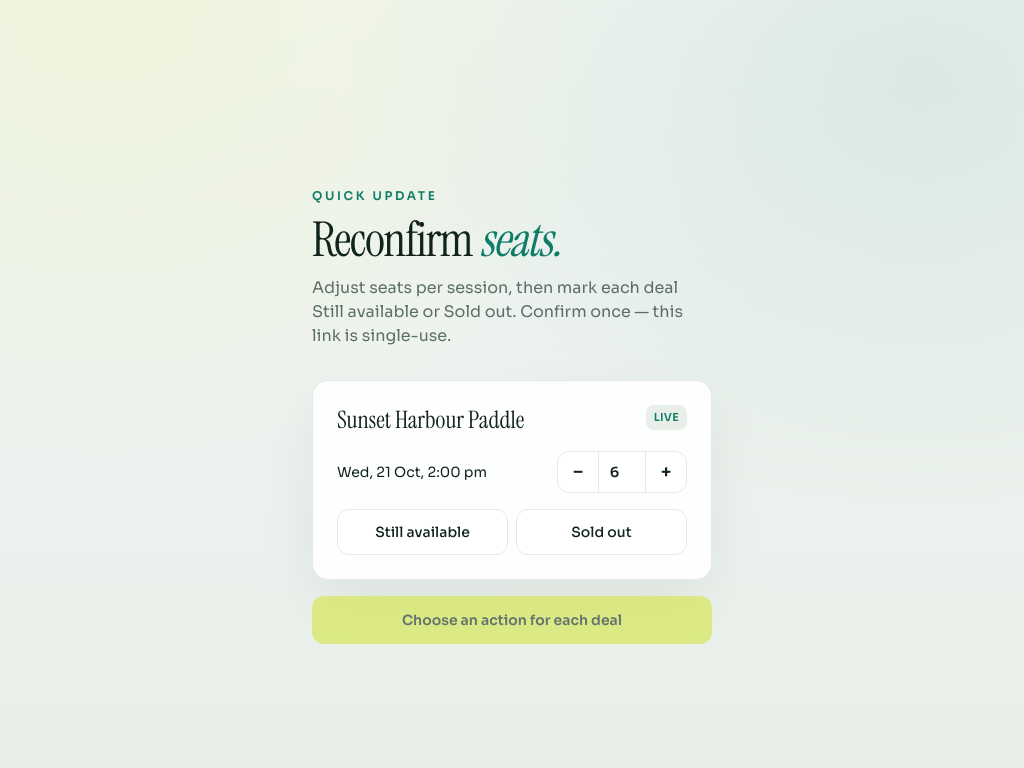
Test case: QuickUpdatePage (chunk 24) › increments seats via stepper then submits still_available
Expected: the heading "Sunset Harbour Paddle" is shown, [337,405,524,435]
Click the button named "Increase seats for" at (666, 472), box [646,452,686,492]
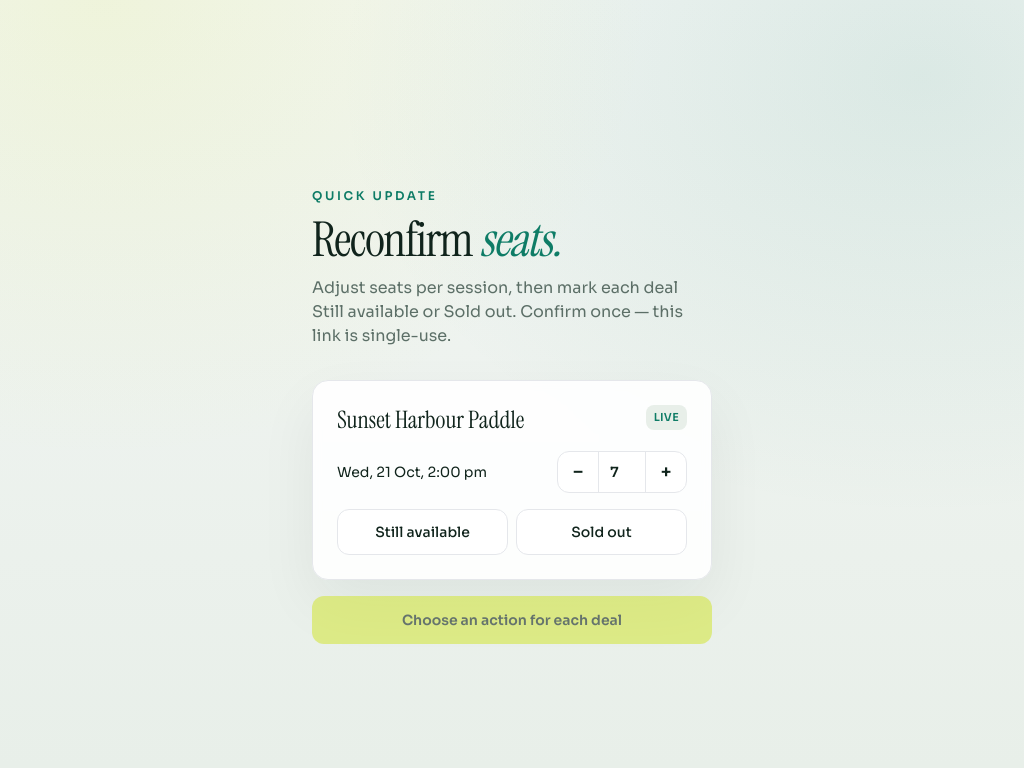
Now the number field holds "7", box [598,452,646,492]
Click the button "Still available" at (422, 532), box [337,509,508,555]
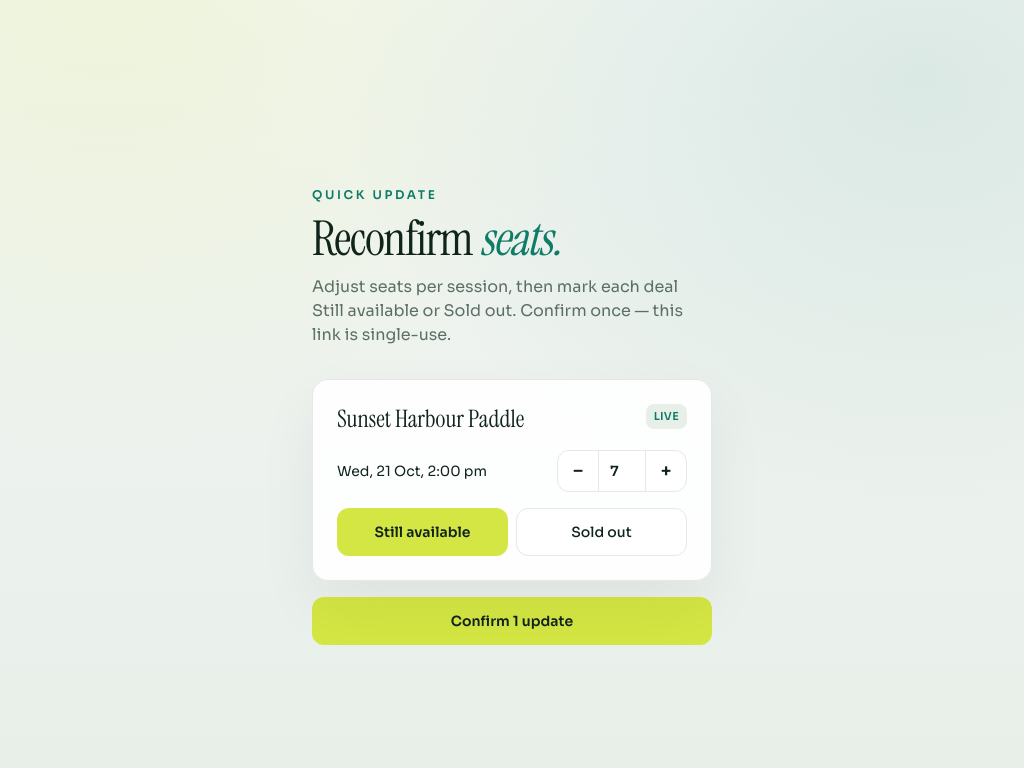
Click the button "Confirm 1 update" at (512, 621), box [312,597,712,645]
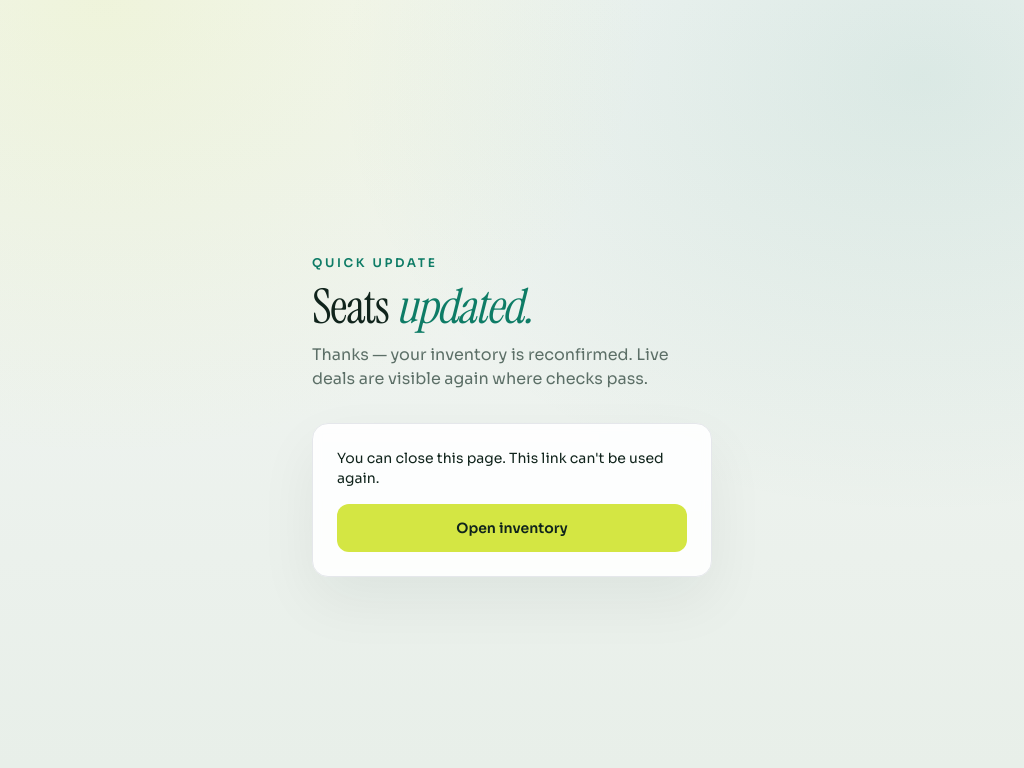
Now the text "updated." is shown, box [396,275,532,338]
